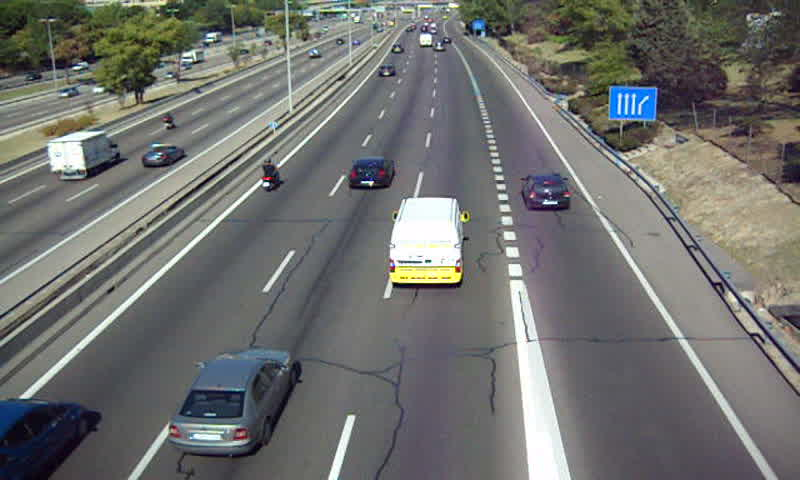car: (171, 349, 294, 454), (523, 174, 573, 209), (350, 158, 394, 188), (378, 63, 397, 79)
motorcycle: (260, 157, 280, 192)
van: (389, 198, 463, 285)
